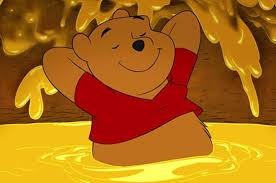Winnie: (69, 12, 197, 121)
